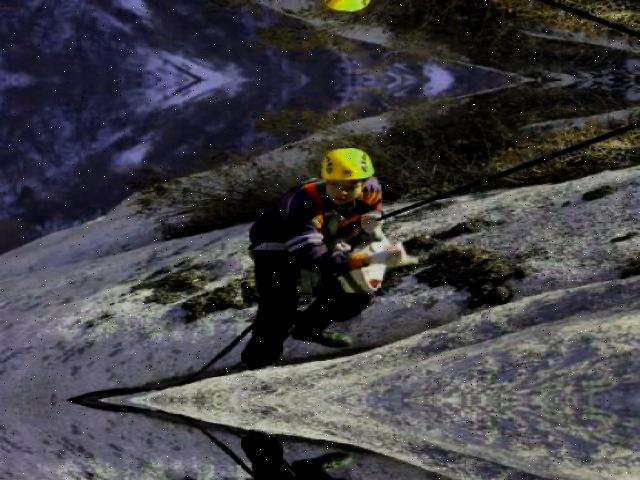Helmet: (313, 144, 376, 185)
